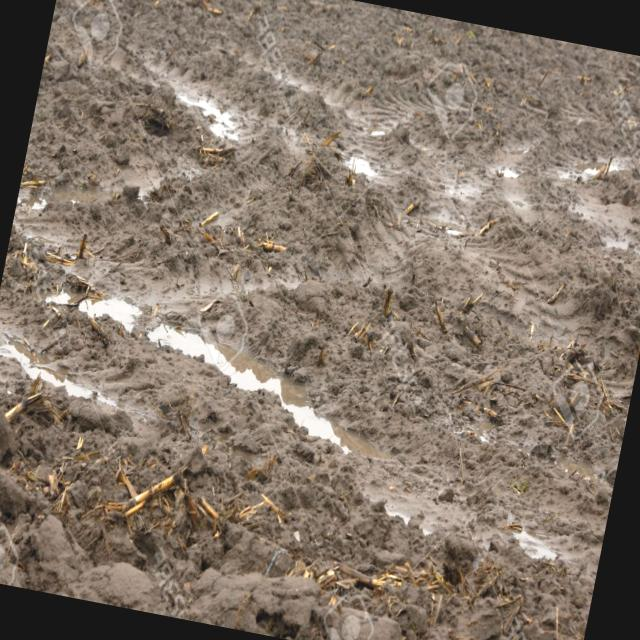suelo_humedo: (25, 0, 622, 618)
